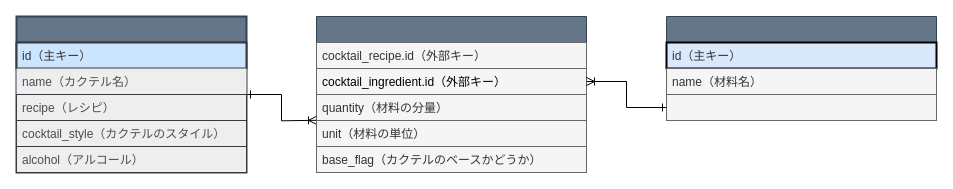
This 953x189 diagram has some shape labels left out. Here are the shapes that lost their labels. From the top down, the box of each, then its label:
(666, 16, 936, 120): cocktail_ingredient
(15, 15, 247, 173): cocktail_recipe
(316, 16, 586, 172): cocktail_ingredient_quantity
(666, 94, 936, 120): type（材料の種類）
